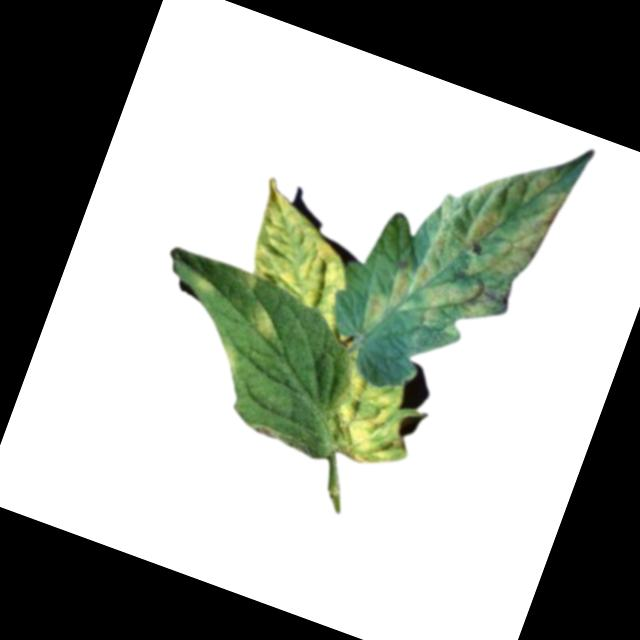Leaf_Mold: (356, 124, 572, 382), (226, 177, 375, 331), (314, 354, 430, 476), (207, 331, 250, 376), (248, 302, 289, 345), (187, 264, 226, 300)
